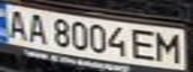0: (66, 18, 90, 52), (87, 21, 109, 55)
4: (106, 24, 130, 57)
8: (48, 16, 72, 48)
A: (3, 7, 30, 40), (24, 11, 51, 44)
E: (127, 27, 160, 62)
M: (151, 30, 187, 64)
